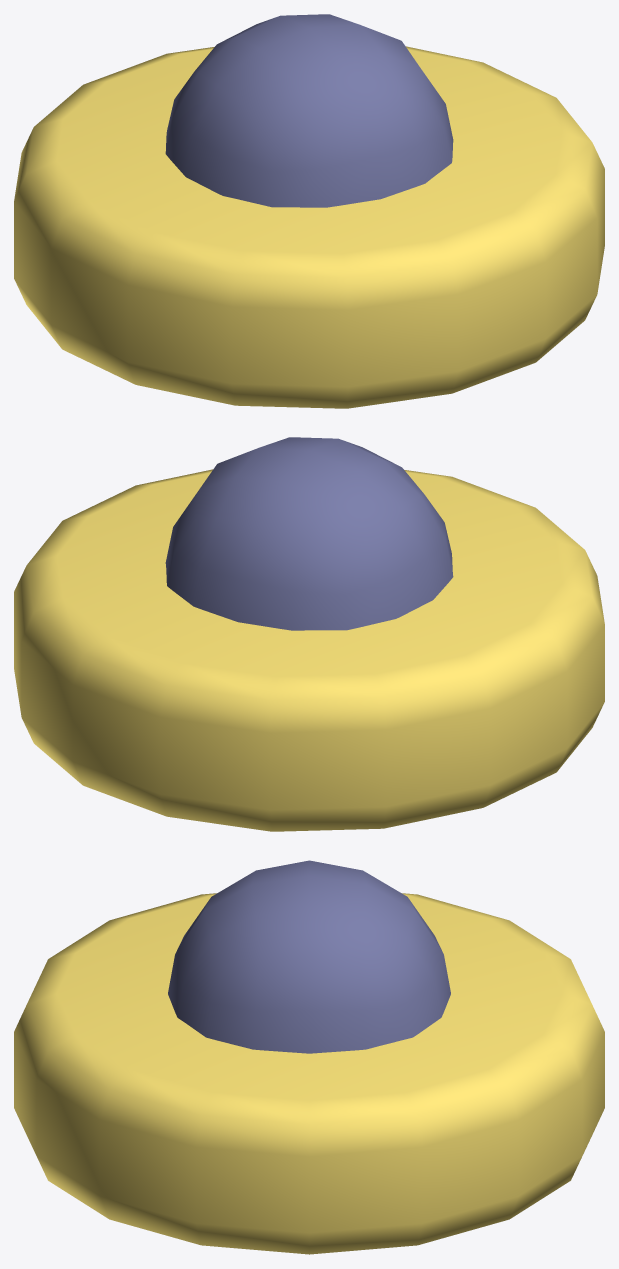
Rendered from Cake_4.glb.
3 renders of one model, top to bottom at view 1: azimuth 30°, elevation 25°; view 2: azimuth 150°, elevation 25°; view 3: azimuth 270°, elevation 25°, orthographic.
Parts seen in each view (by area): view 1: Cake_4; view 2: Cake_4; view 3: Cake_4.
Part boxes in pixels (x1,y1,x2,y2): Cake_4: (14, 14, 604, 408); Cake_4: (14, 437, 604, 831); Cake_4: (14, 860, 604, 1254).
Bounding box in the file's own units: 0.1633 × 0.0823 × 0.1633.
1 material, 1 textured.
